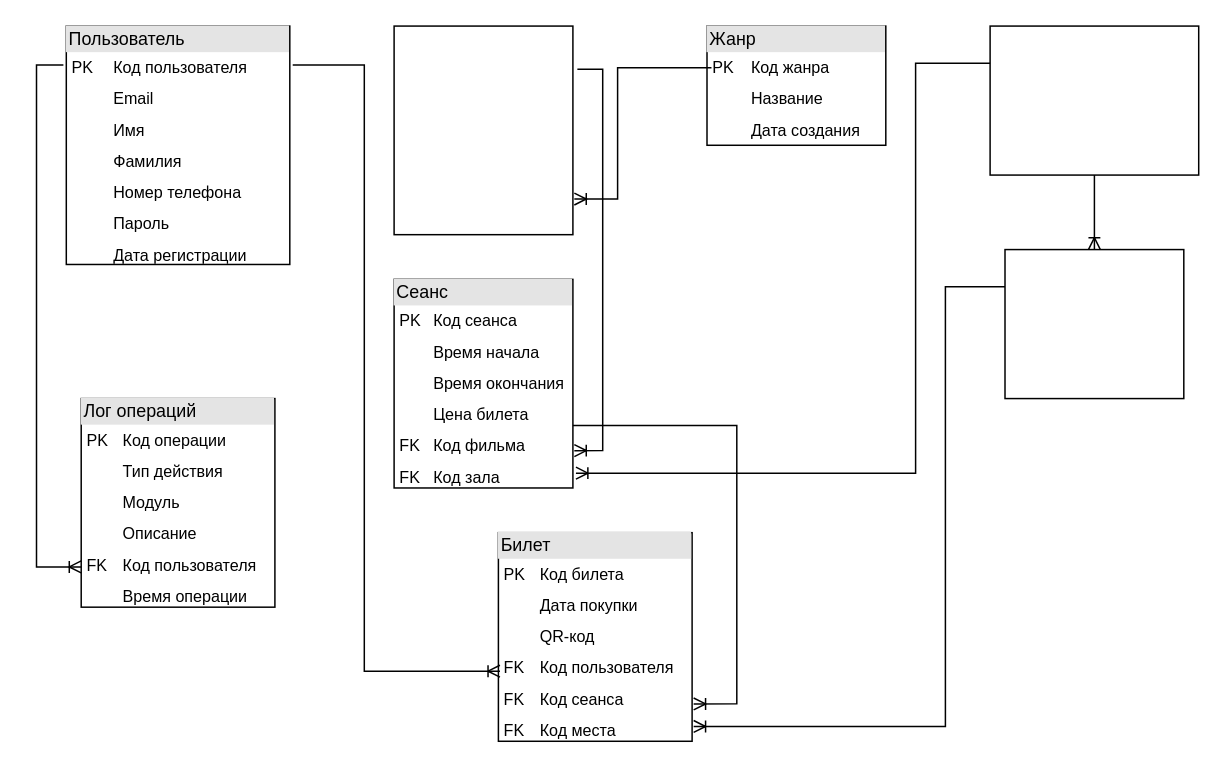
Some shapes in this 1225 by 767 pixel diagram are drawn without their labels. Here are the shapes that lost their labels. From the top down, the box of each, then its label:
(989, 25, 1199, 175): Зал PK Код зала Название Кол-во рядов Кол-во мест в ряду
(393, 25, 573, 235): Фильм PK Код фильма Название Описание Продолжительность FK Код жанра Постер
(1004, 248, 1184, 399): Место PK Код места Номер ряда Номер места FK Код зала
